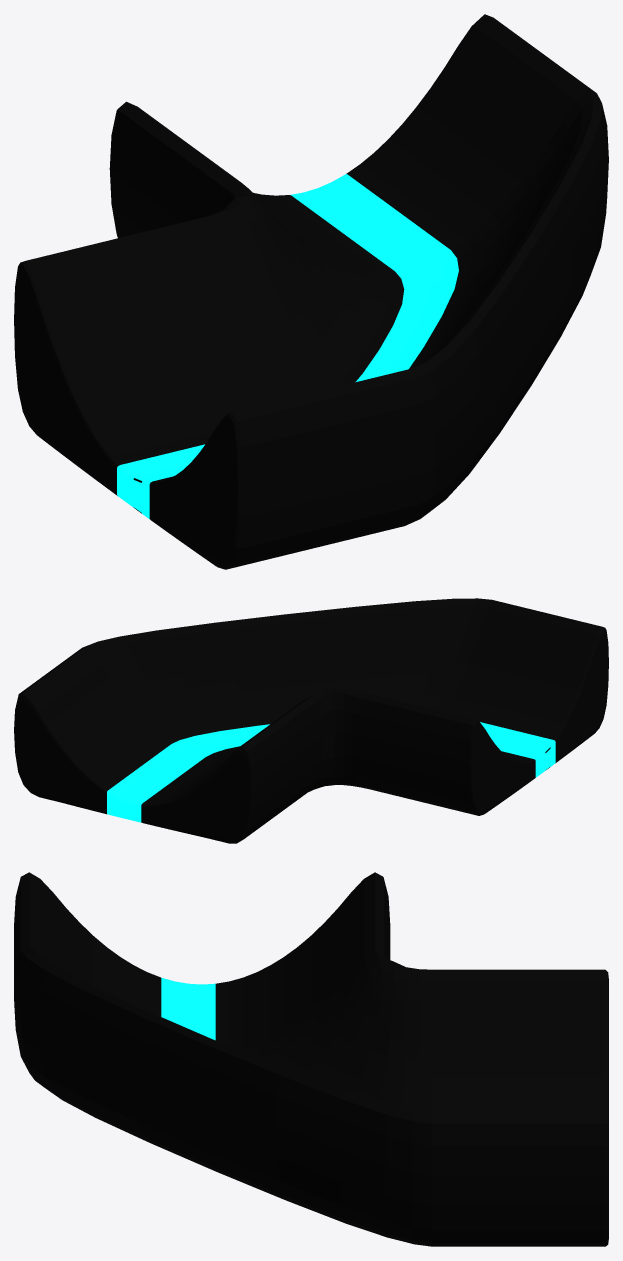
File: TurnTile.fbx
The picture shows the model from 3 angles, top to bottom: view 1: azimuth 30°, elevation 25°; view 2: azimuth 150°, elevation 25°; view 3: azimuth 270°, elevation 25°; orthographic projection. The views are drawn at different scales.
Parts seen in each view (by area): view 1: Cube; view 2: Cube; view 3: Cube.
Part boxes in pixels (x1=…): Cube: x1=14, y1=14, x2=608, y2=569; Cube: x1=14, y1=598, x2=608, y2=843; Cube: x1=14, y1=872, x2=608, y2=1246.
Size of the model in its own units: 2194 by 568 by 2194.
